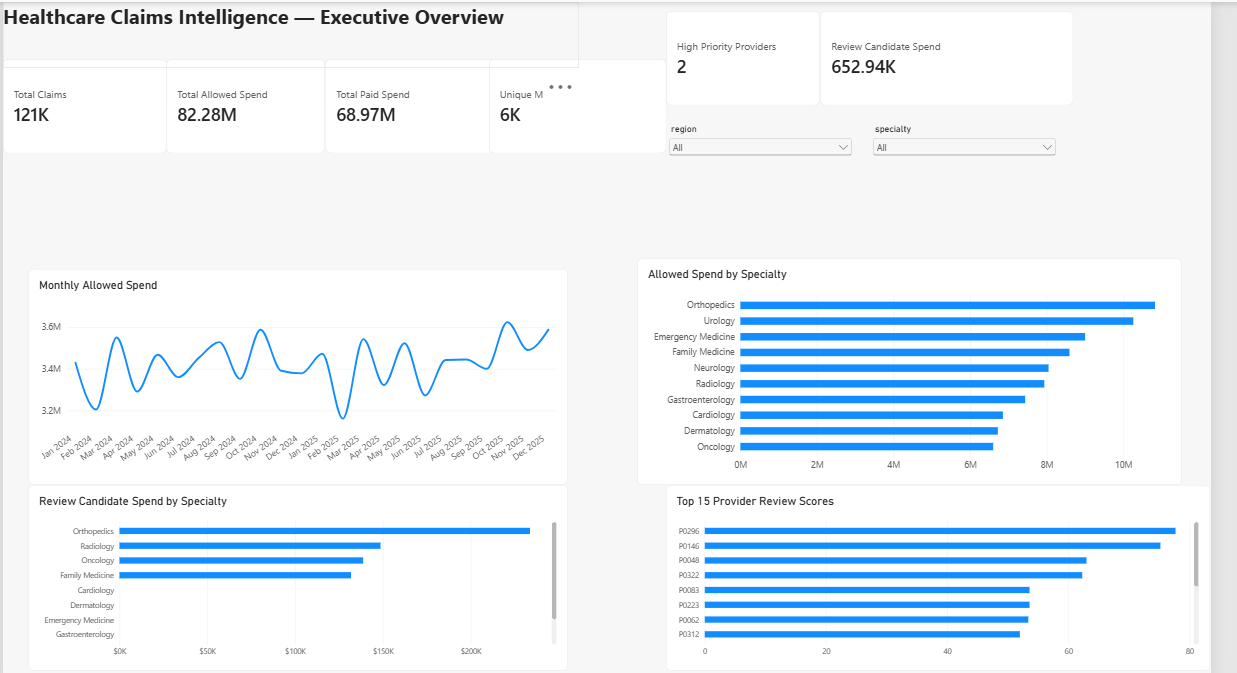

Layout of this report page (visuals, bound fields, positions):
{"tool":"powerbi","page":{"name":"Executive Overview","canvas":[1920,1080],"ordinal":0},"visuals":[{"type":"cardVisual","fields":{"Data":["claim_review_queue.Total Claims"]},"box":[0,90,260,150],"z":0},{"type":"cardVisual","fields":{"Data":["claim_review_queue.Total Allowed Spend"]},"box":[260,90,252.5,150],"z":1000},{"type":"cardVisual","fields":{"Data":["claim_review_queue.Total Paid Spend"]},"box":[512.5,90,270,150],"z":2000},{"type":"cardVisual","fields":{"Data":["claim_review_queue.Unique Members"]},"box":[772.5,90,282.5,150],"z":3000},{"type":"cardVisual","fields":{"Data":["claim_review_queue.High Priority Providers"]},"box":[1055,15,245,150],"z":4000},{"type":"cardVisual","fields":{"Data":["claim_review_queue.Review Candidate Spend"]},"box":[1300,15,402.5,150],"z":5000},{"type":"lineChart","title":"Monthly Allowed Spend","fields":{"Category":["fact_claims.Month Year"],"Y":["Sum(fact_claims.allowed_amount)"]},"box":[40,425,857.5,342.5],"z":6000},{"type":"clusteredBarChart","title":"Allowed Spend by Specialty","fields":{"Category":["dim_providers.specialty"],"Y":["Sum(fact_claims.allowed_amount)"]},"box":[1010,407.5,865,360],"z":7000},{"type":"clusteredBarChart","title":"Review Candidate Spend by Specialty","fields":{"Category":["provider_scores.specialty"],"Y":["Sum(provider_scores.associated_review_spend)"]},"box":[40,767.5,857.5,295],"z":8000},{"type":"clusteredBarChart","title":"Top 15 Provider Review Scores","fields":{"Category":["provider_scores.provider_id"],"Y":["Sum(provider_scores.review_score)"]},"box":[1055,767.5,865,295],"z":9000},{"type":"slicer","fields":{"Values":["dim_providers.specialty"]},"box":[1380,192.5,300,180],"z":10000},{"type":"slicer","fields":{"Values":["dim_providers.region"]},"box":[1055,192.5,300,215],"z":11000},{"type":"textbox","box":[0,0,915,105],"z":12000}]}

Visuals, with their boxes on the page's 1920x1080 design canvas (x1, y1, x2, y2). These are canvas units, not pixel positions in the 1237x673 screenshot, which may show the page scaled, cropped or inside an application window:
cardVisual - claim_review_queue.Total Claims: left=0, top=90, right=260, bottom=240
cardVisual - claim_review_queue.Total Allowed Spend: left=260, top=90, right=512, bottom=240
cardVisual - claim_review_queue.Total Paid Spend: left=512, top=90, right=782, bottom=240
cardVisual - claim_review_queue.Unique Members: left=772, top=90, right=1055, bottom=240
cardVisual - claim_review_queue.High Priority Providers: left=1055, top=15, right=1300, bottom=165
cardVisual - claim_review_queue.Review Candidate Spend: left=1300, top=15, right=1702, bottom=165
"Monthly Allowed Spend" lineChart: left=40, top=425, right=898, bottom=768
"Allowed Spend by Specialty" clusteredBarChart: left=1010, top=408, right=1875, bottom=768
"Review Candidate Spend by Specialty" clusteredBarChart: left=40, top=768, right=898, bottom=1062
"Top 15 Provider Review Scores" clusteredBarChart: left=1055, top=768, right=1920, bottom=1062
slicer - dim_providers.specialty: left=1380, top=192, right=1680, bottom=372
slicer - dim_providers.region: left=1055, top=192, right=1355, bottom=408
textbox: left=0, top=0, right=915, bottom=105
